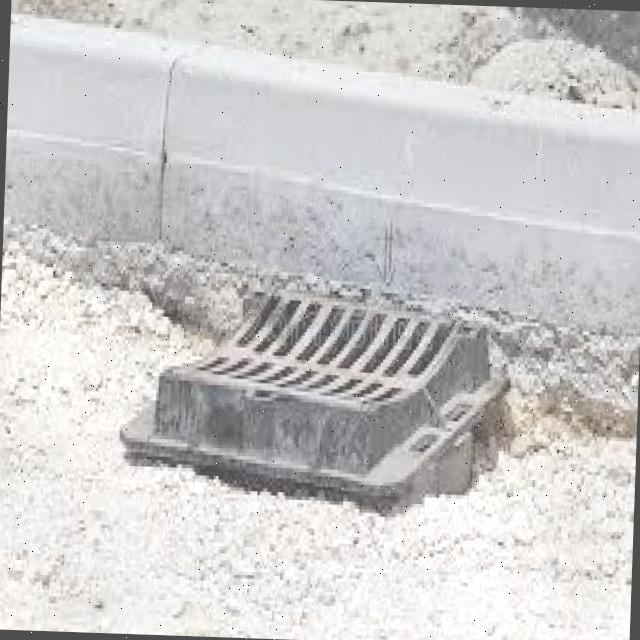curb: (303, 58, 640, 331), (3, 16, 304, 280)
